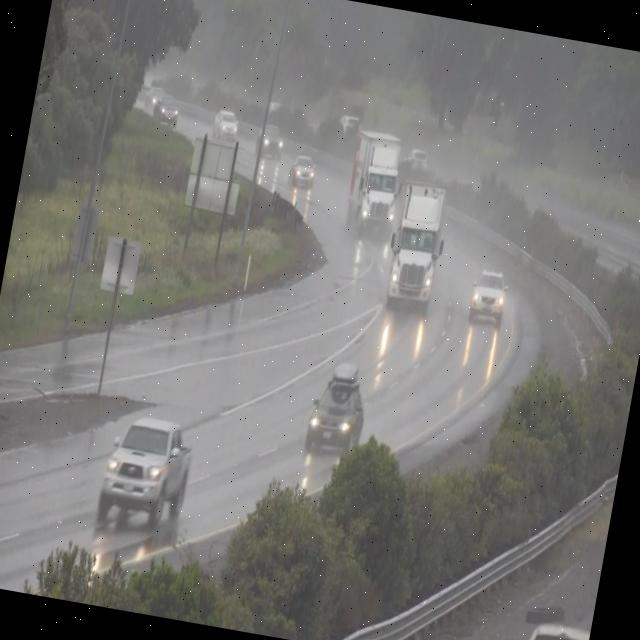bus: (379, 172, 452, 307), (338, 126, 408, 245)
car: (97, 416, 194, 524), (302, 361, 371, 460), (466, 266, 509, 326), (254, 118, 286, 158), (209, 106, 242, 142), (286, 152, 318, 188), (150, 95, 182, 129), (141, 82, 167, 111)
